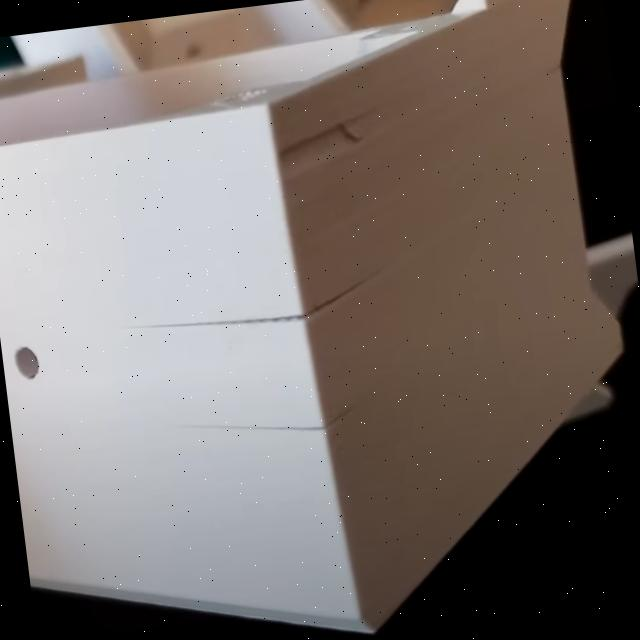cracks: (190, 377, 474, 482), (146, 274, 400, 354), (274, 106, 401, 192)
